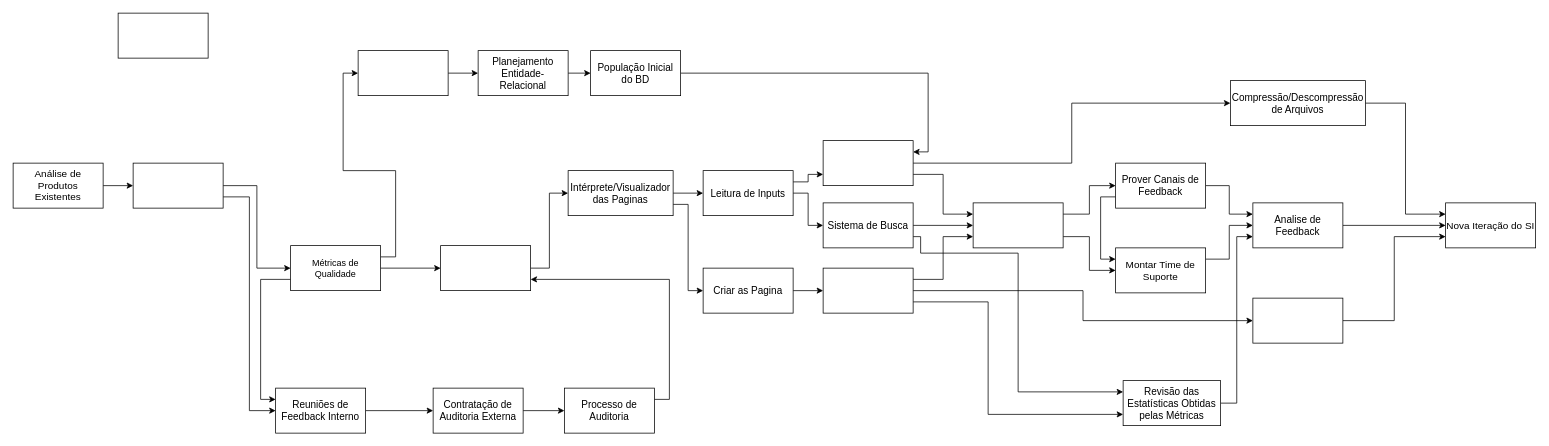
This 1549x446 diagram has some shape labels left out. Here are the shapes that lost their labels. From the top down, the box of each, then its label:
(117, 12, 208, 58): Desenvolver Testes Durante Codificação
(357, 50, 448, 96): Definir Técnicas Infraestruturais do BD
(822, 140, 913, 186): Estrutura de Comunicação com o BD
(132, 162, 223, 208): Viabilidade de Produção Interna
(972, 202, 1063, 248): Montagem de Build de Teste
(440, 245, 531, 291): Concepção do Layout
(822, 267, 913, 313): Fluxo de Navegação do Usuário
(1252, 297, 1343, 343): Permissões de Acesso
